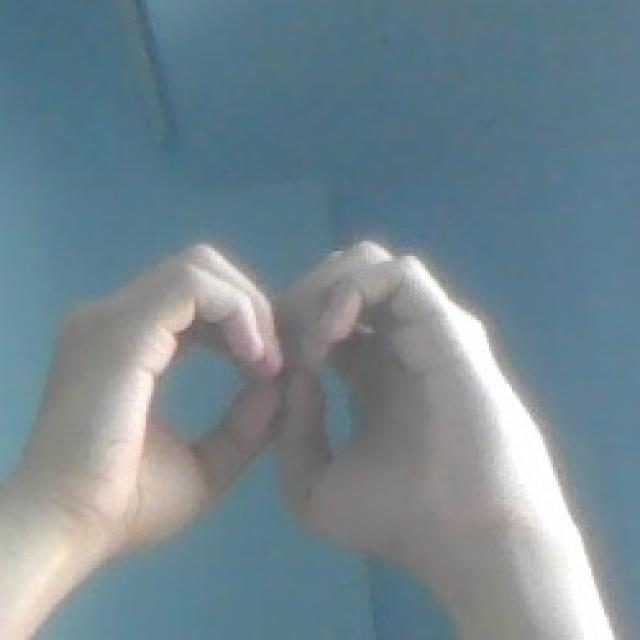Alphabet-B: (29, 228, 560, 554)
